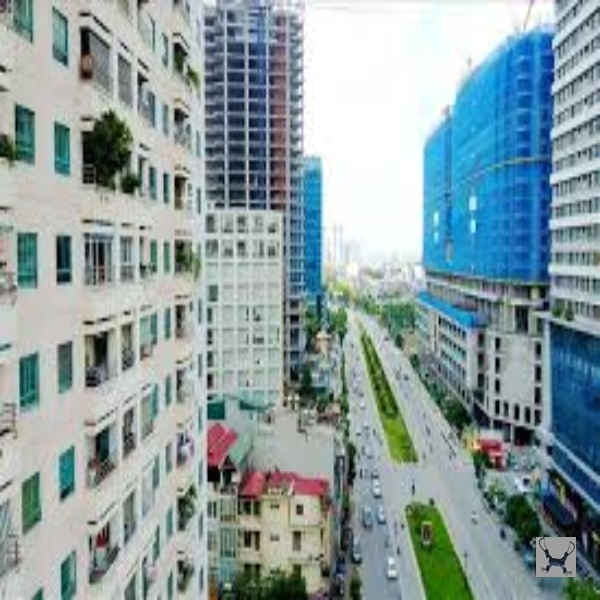drone: (533, 535, 577, 576)
